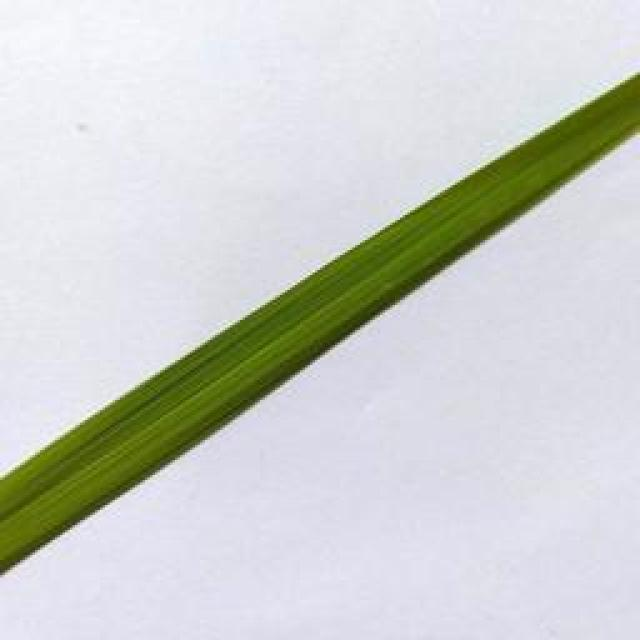Healthy-Plant: (0, 351, 192, 583), (168, 248, 348, 472), (326, 168, 504, 362), (475, 64, 640, 252)
